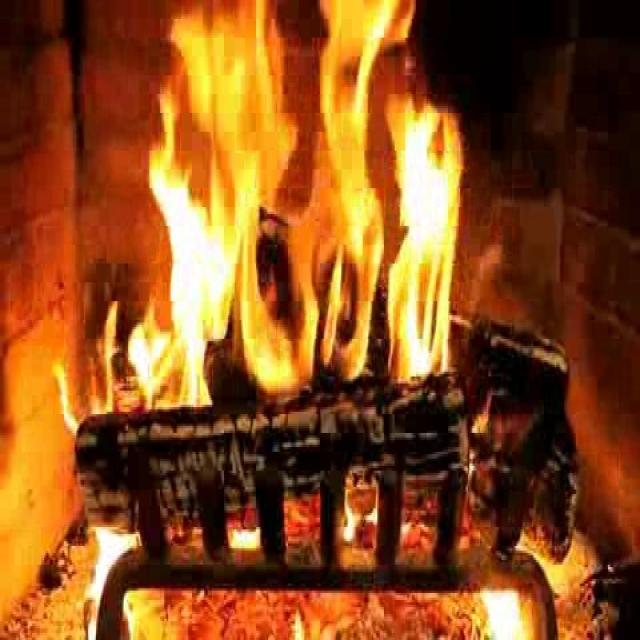fire: (149, 15, 458, 401)
